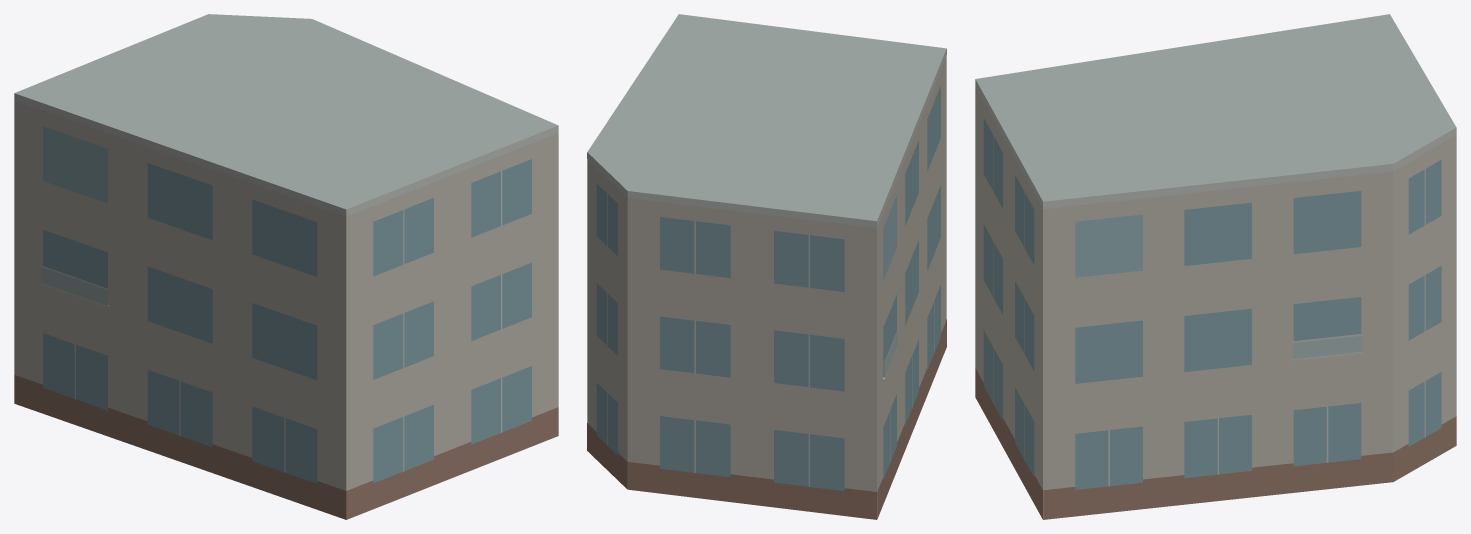
The model's file is survey-upis-32672530.glb.
3 renders of one model, left to right at view 1: azimuth 30°, elevation 25°; view 2: azimuth 150°, elevation 25°; view 3: azimuth 270°, elevation 25°, orthographic. The views are drawn at different scales.
Parts seen in each view (by area): view 1: survey-upis-32672530.tmp; view 2: survey-upis-32672530.tmp; view 3: survey-upis-32672530.tmp.
Boxes of the visible parts, box(x1,y1,x2,y2) form: survey-upis-32672530.tmp: box(14, 14, 558, 519); survey-upis-32672530.tmp: box(587, 14, 946, 519); survey-upis-32672530.tmp: box(975, 14, 1456, 519).
Bounding box in the file's own units: 13.2 × 10.43 × 14.31.
